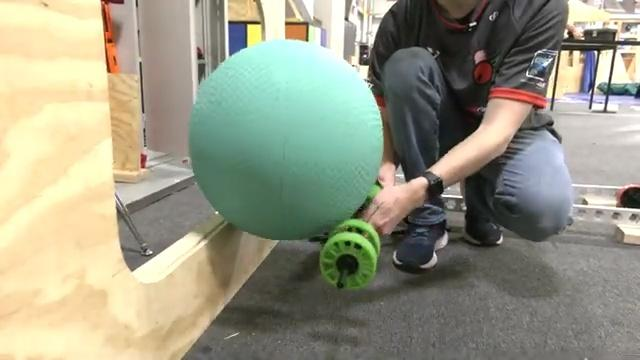ALGAE: (187, 37, 384, 240)
